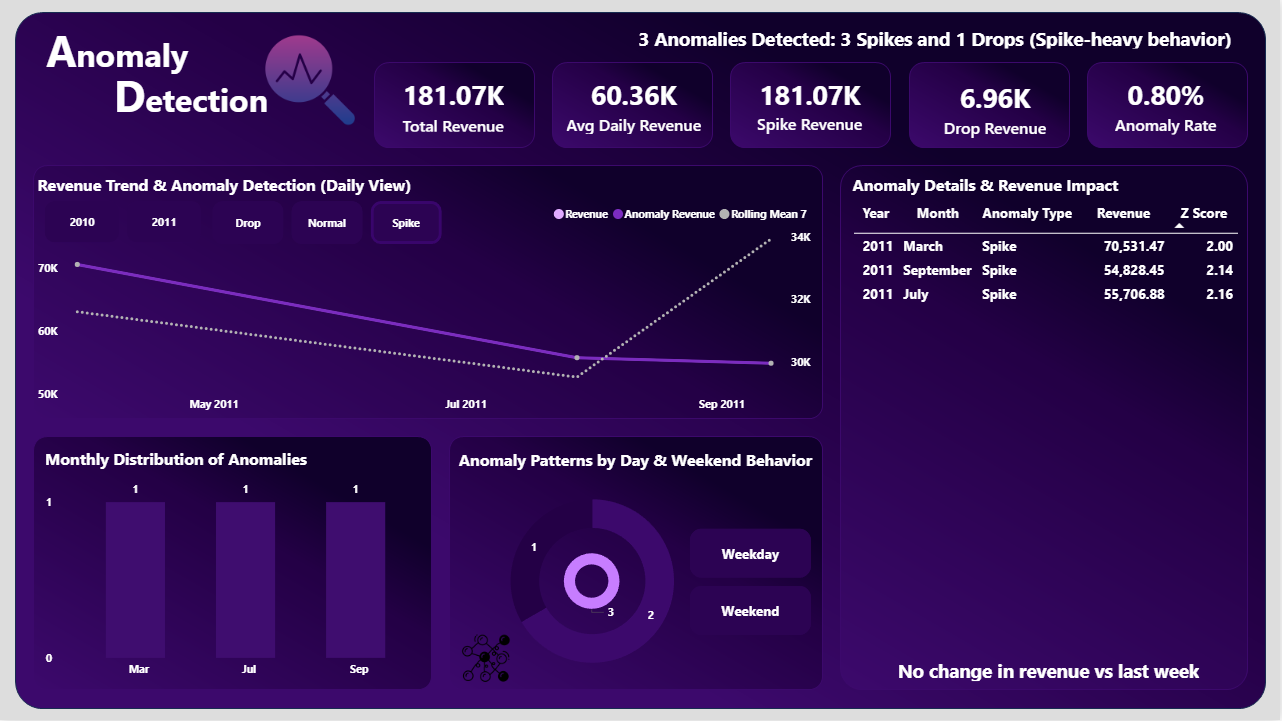

The dashboard page shown, as its layout file describes it:
{"tool":"powerbi","page":{"name":"Time-Series Analysis","canvas":[1280,720],"ordinal":0},"visuals":[{"type":"image","box":[448.8,633.8,73.8,48.8],"z":0},{"type":"lineChart","title":"Revenue Trend & Anomaly Detection (Daily View)","fields":{"Y":["Sum(daily_anomaly_data.Revenue)","daily_anomaly_data.Anomaly Revenue"],"Category":["Date_Dim.Date.Variation.Date Hierarchy.Year","Date_Dim.Date.Variation.Date Hierarchy.Month","Date_Dim.Date.Variation.Date Hierarchy.Day"],"Y2":["Sum(daily_anomaly_data.Rolling_Mean_7)"]},"box":[32.5,173.8,783.8,247.5],"z":1000},{"type":"advancedSlicerVisual","fields":{"Values":["Date_Dim.Year"]},"box":[40,196.2,167.5,51.2],"z":2000},{"type":"donutChart","fields":{"Y":["_Measueres.Total Anomalies"],"Category":["Date_Dim.Day Name"]},"box":[432.5,463.8,320,235],"z":3000},{"type":"cardVisual","fields":{"Data":["_Measueres.Total Revenue"]},"box":[371.4,64.3,164.3,85.7],"z":4000},{"type":"advancedSlicerVisual","fields":{"Values":["Date_Dim.Weekend_Label"]},"box":[685,523.8,131.2,117.5],"z":5000},{"type":"cardVisual","fields":{"Data":["_Measueres.Anomaly Insight"]},"box":[602.9,8.6,665.7,57.1],"z":6000},{"type":"advancedSlicerVisual","fields":{"Values":["daily_anomaly_data.Anomaly_Type"]},"box":[207.5,196.2,241.2,53.8],"z":7000},{"type":"cardVisual","fields":{"Data":["_Measueres.Avg Daily Revenue"]},"box":[535.7,60,195.7,91.4],"z":8000},{"type":"cardVisual","fields":{"Data":["daily_anomaly_data.Spike Revenue"]},"box":[725.7,57.1,167.1,95.7],"z":9000},{"type":"tableEx","title":"Anomaly Details & Revenue Impact ","fields":{"Values":["Date_Dim.Date.Variation.Date Hierarchy.Year","Date_Dim.Date.Variation.Date Hierarchy.Month","daily_anomaly_data.Anomaly_Type","Sum(daily_anomaly_data.Revenue)","Sum(daily_anomaly_data.Z_Score)"]},"box":[847.1,174.3,401.4,508.6],"z":10000},{"type":"columnChart","title":"Monthly Distribution of Anomalies","fields":{"Y":["_Measueres.Total Anomalies"],"Category":["Date_Dim.Month"]},"box":[40,447.1,401.4,238.6],"z":11000},{"type":"cardVisual","fields":{"Data":["_Measueres.Anomaly Rate"]},"box":[1084.3,55.7,164.3,98.6],"z":12000},{"type":"cardVisual","fields":{"Data":["daily_anomaly_data.Drop Revenue"]},"box":[912.9,61.4,165.7,94.3],"z":13000},{"type":"donutChart","fields":{"Category":["Date_Dim.Weekend_Label"],"Y":["_Measueres.Total Anomalies"]},"box":[538.8,536.2,106.2,90],"z":14000},{"type":"cardVisual","fields":{"Data":["_Measueres.Revenue WoW Insight"]},"box":[840,641.4,417.1,57.1],"z":15000},{"type":"textbox","box":[454.3,444.3,378.6,38.6],"z":16000},{"type":"textbox","box":[41.2,16.2,172.5,67.5],"z":17000},{"type":"textbox","box":[108.8,61.2,180,71.2],"z":18000},{"type":"image","box":[255,30,108.8,100],"z":19000}]}

Visuals, with their boxes in screenshot pixels (x1, y1, x2, y2), scaled from the page's 1280x720 canvas onto the 1282x721 screenshot:
image: 450 635 523 684
"Revenue Trend & Anomaly Detection (Daily View)" lineChart: 33 174 818 422
advancedSlicerVisual - Date_Dim.Year: 40 196 208 248
donutChart - _Measueres.Total Anomalies x Date_Dim.Day Name: 433 464 754 700
cardVisual - _Measueres.Total Revenue: 372 64 537 150
advancedSlicerVisual - Date_Dim.Weekend_Label: 686 525 817 642
cardVisual - _Measueres.Anomaly Insight: 604 9 1271 66
advancedSlicerVisual - daily_anomaly_data.Anomaly_Type: 208 196 449 250
cardVisual - _Measueres.Avg Daily Revenue: 537 60 733 152
cardVisual - daily_anomaly_data.Spike Revenue: 727 57 894 153
"Anomaly Details & Revenue Impact " tableEx: 848 175 1250 684
"Monthly Distribution of Anomalies" columnChart: 40 448 442 687
cardVisual - _Measueres.Anomaly Rate: 1086 56 1251 155
cardVisual - daily_anomaly_data.Drop Revenue: 914 61 1080 156
donutChart - Date_Dim.Weekend_Label x _Measueres.Total Anomalies: 540 537 646 627
cardVisual - _Measueres.Revenue WoW Insight: 841 642 1259 699
textbox: 455 445 834 484
textbox: 41 16 214 84
textbox: 109 61 289 133
image: 255 30 364 130
